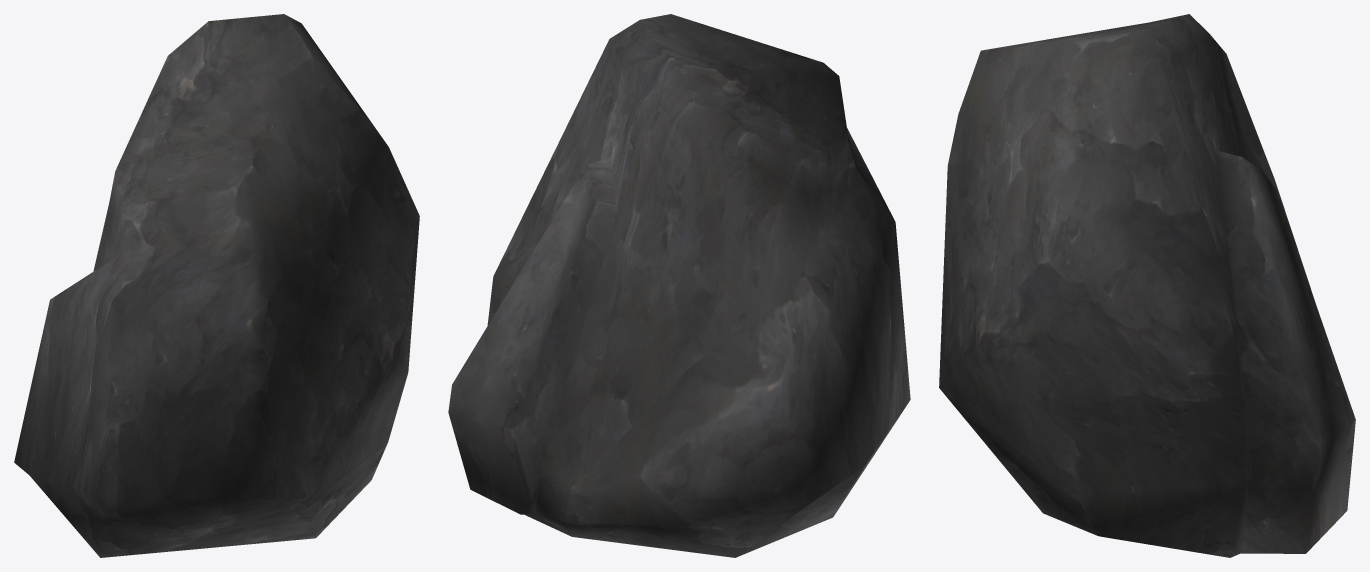
Rendered from cragrocksmall_a01.obj.
3 views of the same model, side by side, from view 1: azimuth 30°, elevation 25°; view 2: azimuth 150°, elevation 25°; view 3: azimuth 270°, elevation 25° (orthographic). The views are drawn at different scales.
Parts seen in each view (by area): view 1: world/expansion06/doodads/suramar/7sr_cragrocksmall_a01.m2_Geose; view 2: world/expansion06/doodads/suramar/7sr_cragrocksmall_a01.m2_Geose; view 3: world/expansion06/doodads/suramar/7sr_cragrocksmall_a01.m2_Geose.
Part boxes in pixels (left/top/right/bottom): world/expansion06/doodads/suramar/7sr_cragrocksmall_a01.m2_Geose: left=14, top=14, right=419, bottom=557; world/expansion06/doodads/suramar/7sr_cragrocksmall_a01.m2_Geose: left=448, top=14, right=910, bottom=557; world/expansion06/doodads/suramar/7sr_cragrocksmall_a01.m2_Geose: left=939, top=14, right=1355, bottom=557.
Size of the model in its own units: 4.28 by 5.58 by 4.16.
1 material, 1 textured.
